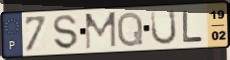7: (23, 14, 49, 53)
L: (181, 9, 205, 44)
M: (83, 10, 118, 52)
Q: (116, 10, 145, 49)
S: (52, 14, 80, 51)
U: (150, 8, 179, 47)
